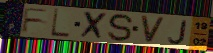F: (20, 7, 50, 34)
J: (167, 20, 187, 45)
L: (49, 8, 70, 39)
S: (107, 13, 135, 43)
V: (139, 15, 167, 45)
X: (78, 10, 110, 42)
